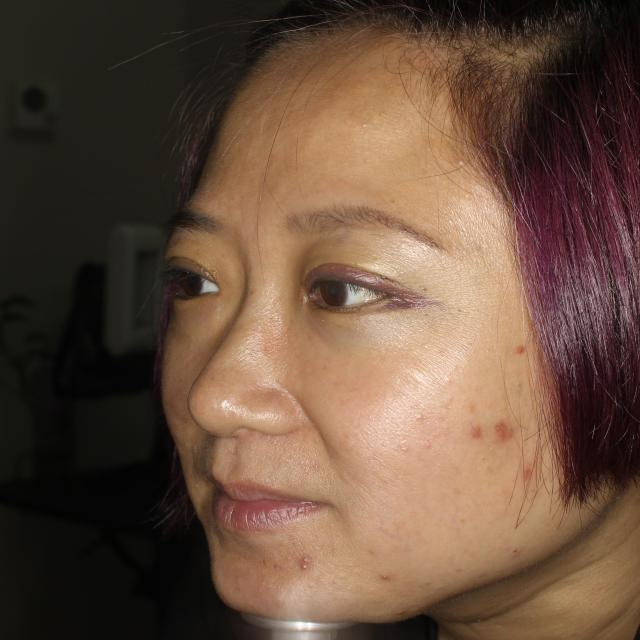acne: (486, 414, 527, 448), (517, 455, 533, 484), (465, 420, 486, 442), (379, 563, 395, 587), (292, 553, 309, 570)
